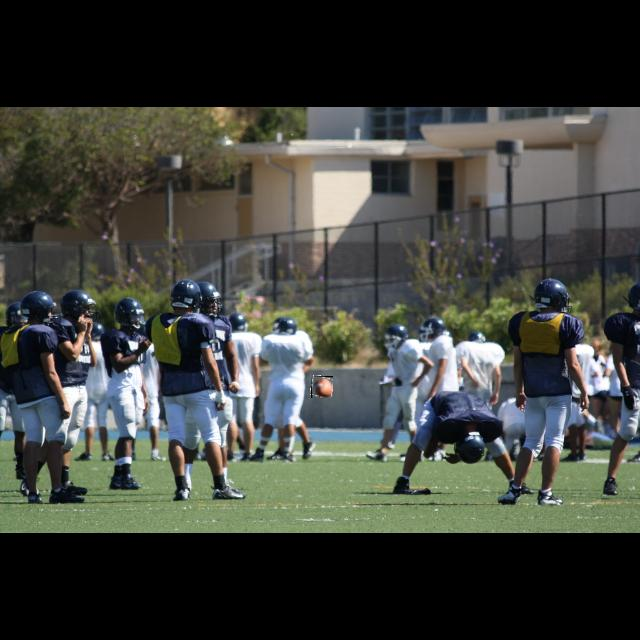Football: (311, 376, 333, 398)
